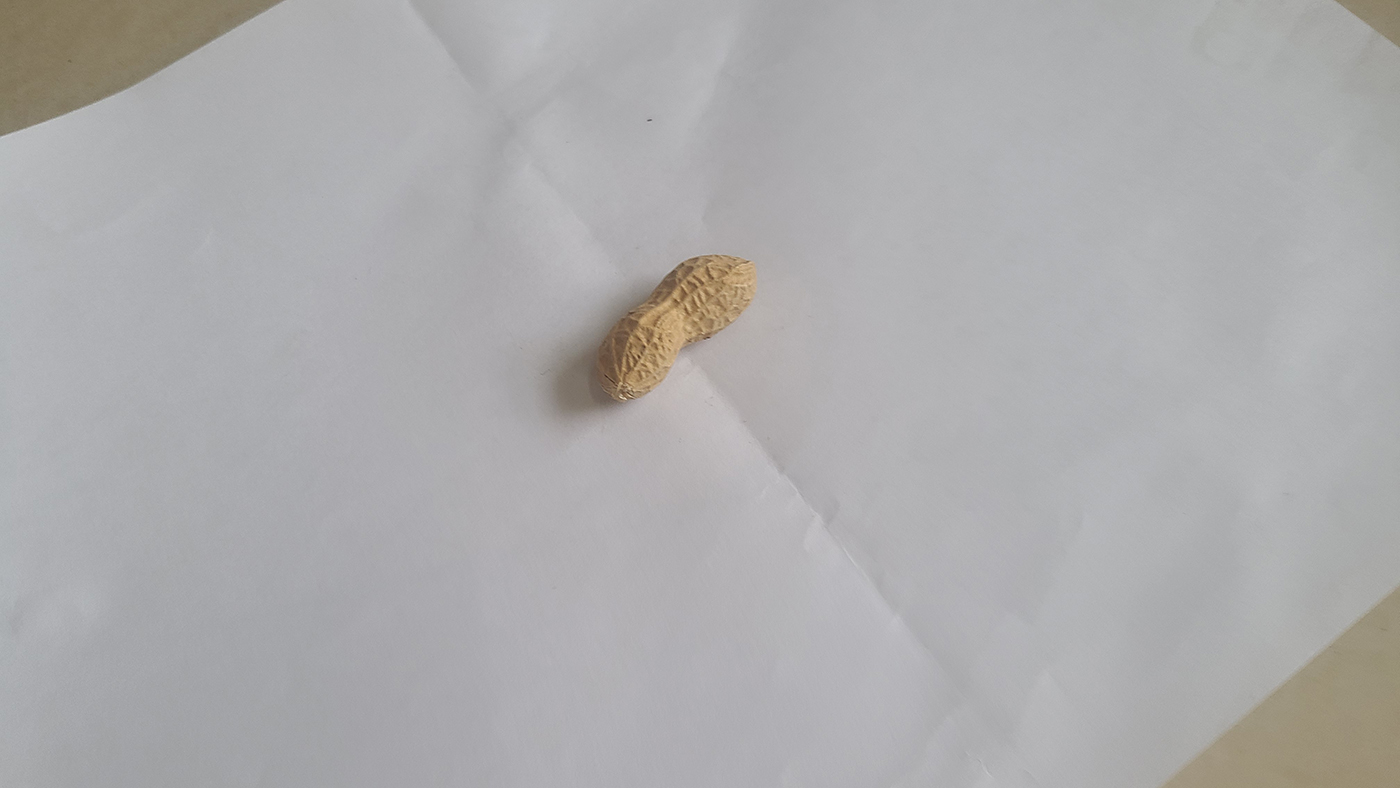h: (589, 252, 759, 402)
